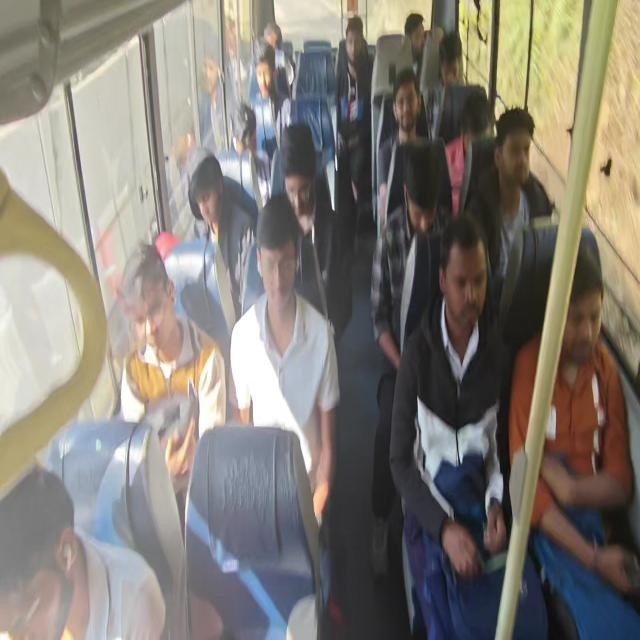person: (0, 459, 92, 636), (122, 262, 202, 378), (559, 263, 607, 378), (438, 248, 494, 342), (254, 213, 297, 306), (279, 139, 316, 217), (405, 157, 439, 236), (189, 146, 224, 221), (505, 112, 538, 186), (252, 44, 283, 113), (461, 96, 493, 150), (402, 8, 435, 56), (337, 19, 367, 70), (392, 85, 418, 128), (241, 107, 262, 155), (264, 18, 286, 61), (440, 44, 462, 82)
